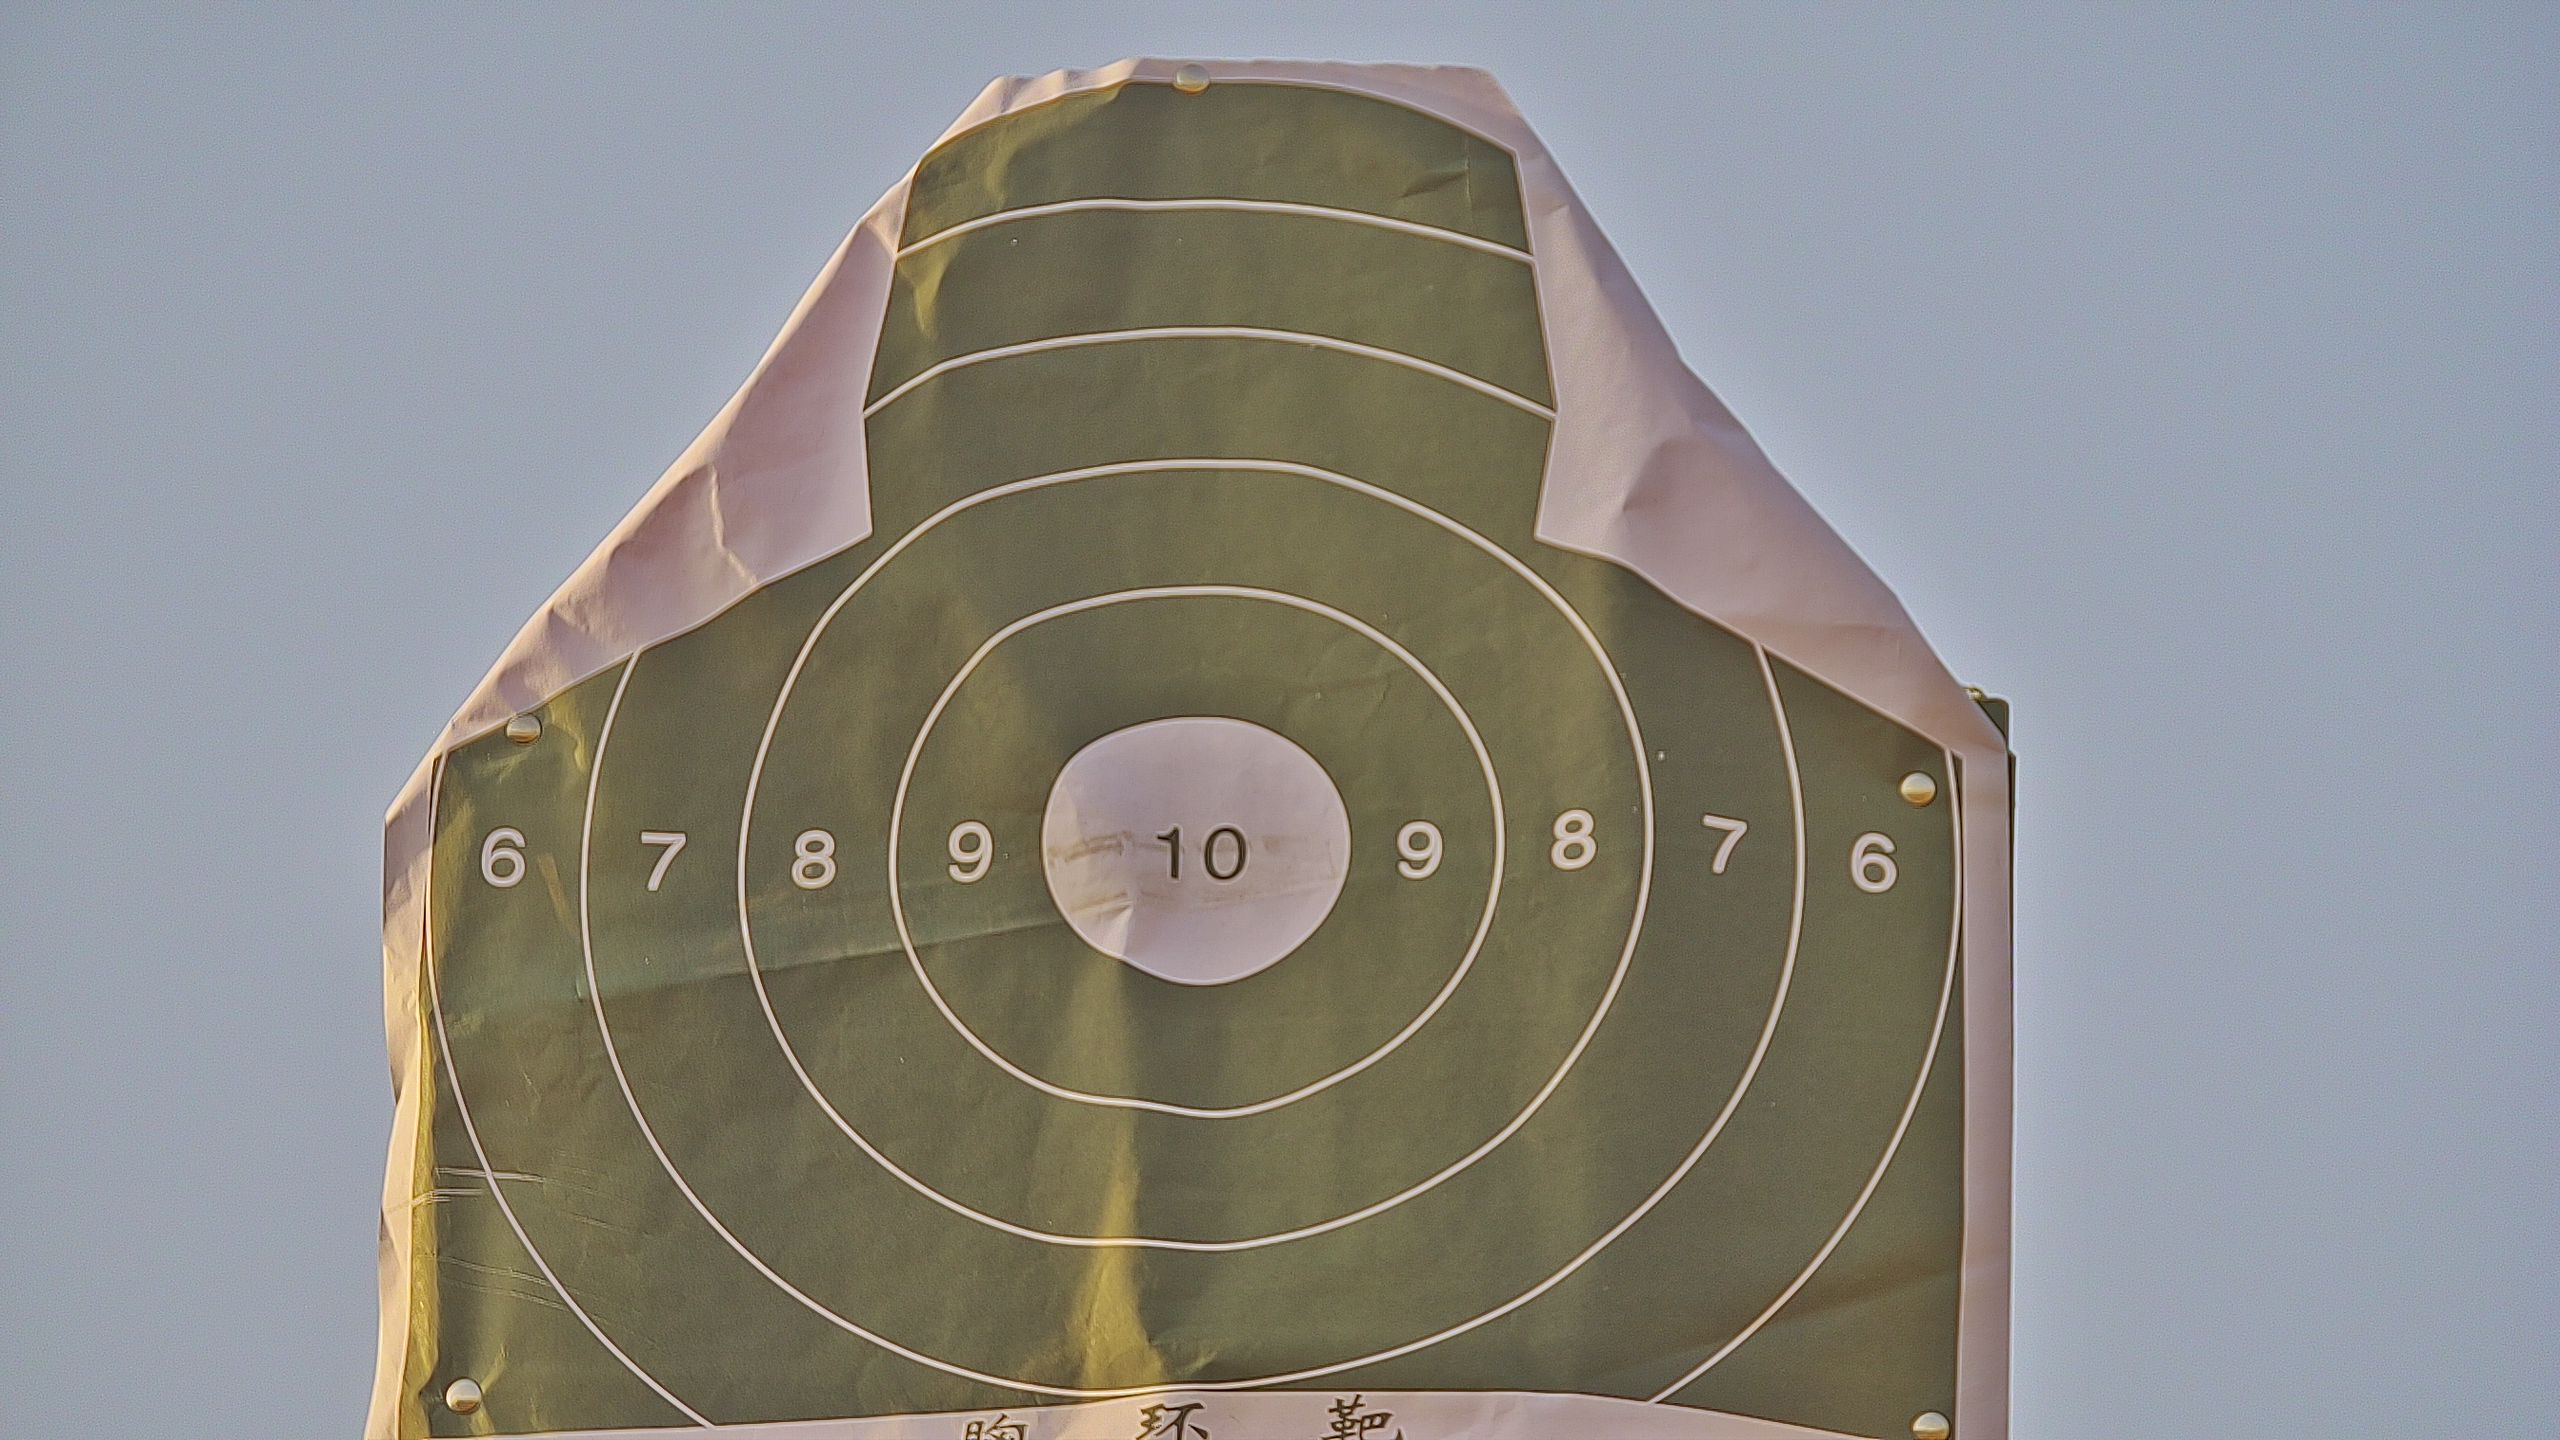kernel: (1189, 851, 1197, 858)
target: (410, 81, 1966, 1440)
ten: (1044, 716, 1356, 986)
